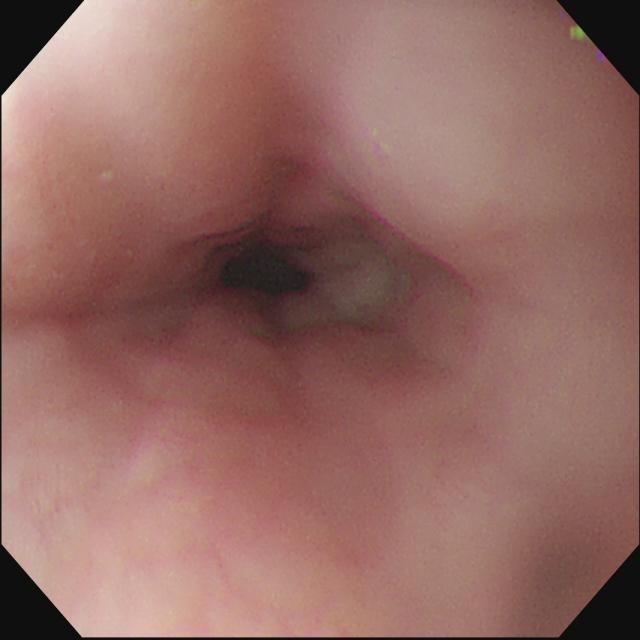E: (223, 248, 309, 293)
